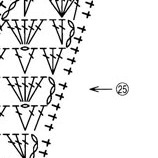enseble_chain: (17, 14, 55, 53), (25, 96, 61, 136), (1, 126, 34, 158), (13, 45, 45, 78), (47, 10, 72, 51), (39, 46, 61, 77), (70, 0, 97, 25), (37, 78, 60, 106), (62, 0, 86, 25), (19, 75, 39, 103), (88, 82, 114, 99), (17, 19, 34, 45), (54, 0, 68, 17), (115, 82, 131, 96)
fan: (7, 130, 30, 158)
